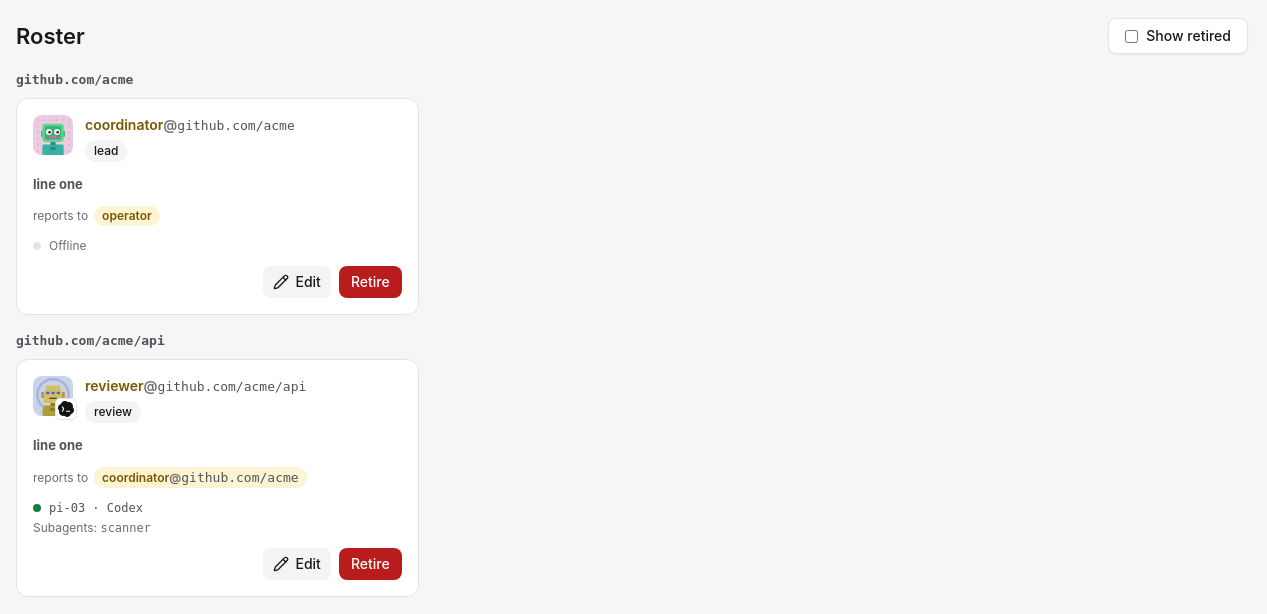
Scenario: RosterGrid › shows retired identities only when toggled
Click the checkbox labelled "Show retired" at (1132, 36), box [1125,30,1138,42]
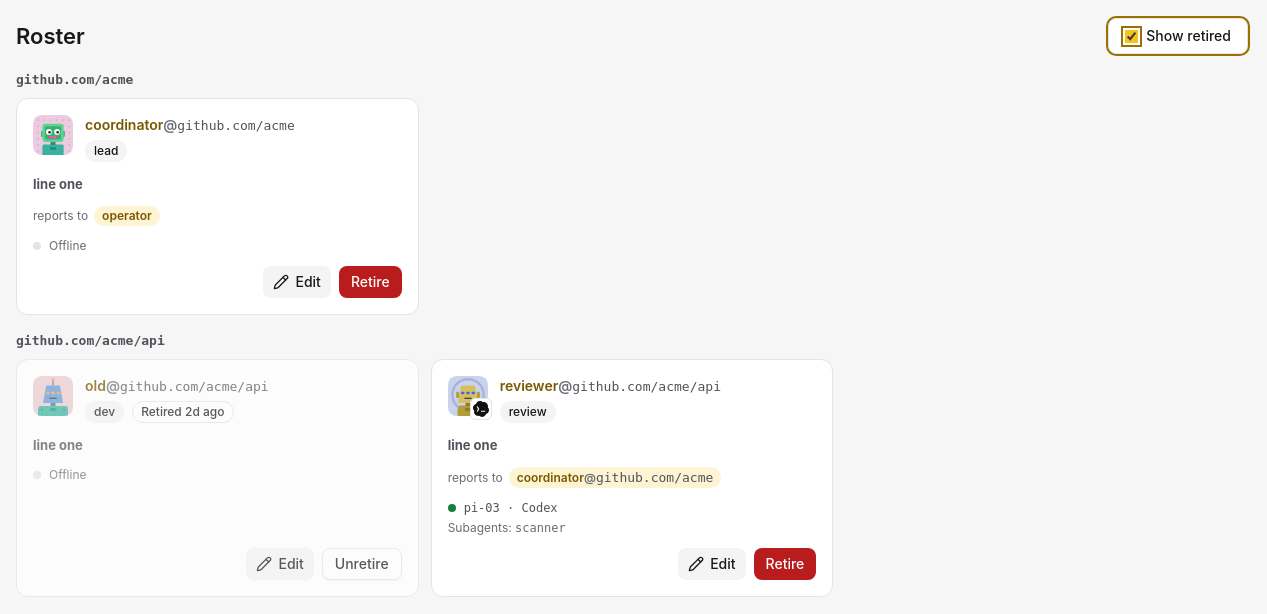
Result: the text "Retired 2d ago" is shown at [132,401,234,423]
Result: the number of list items with test id "roster-card" is 3 at [16,98,419,315]; [16,359,419,597]; [431,359,833,597]
Result: the button "Unretire" is shown at [322,548,402,580]
